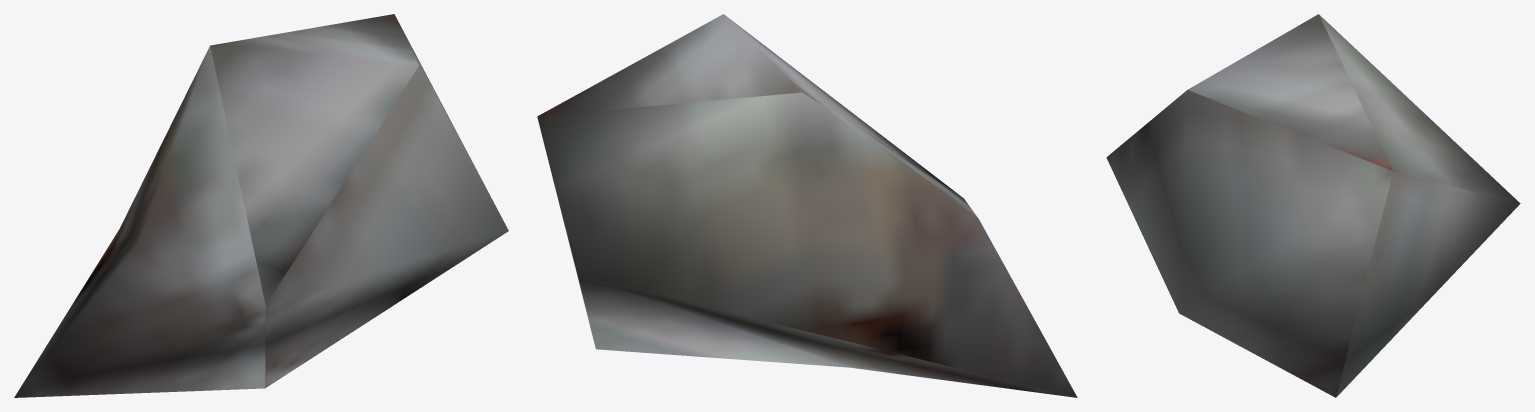
File: poi_repairdroidhead_l3.fbx
3 views of the same model, side by side, from view 1: azimuth 30°, elevation 25°; view 2: azimuth 150°, elevation 25°; view 3: azimuth 270°, elevation 25° (orthographic). The views are drawn at different scales.
Visible parts, largest first — view 1: mesh_node; view 2: mesh_node; view 3: mesh_node.
Boxes of the visible parts, left/top/right/bottom form: mesh_node: left=14, top=14, right=508, bottom=397; mesh_node: left=537, top=14, right=1077, bottom=397; mesh_node: left=1106, top=14, right=1520, bottom=397.
Bounding box in the file's own units: 0.2158 × 0.1373 × 0.1689.
